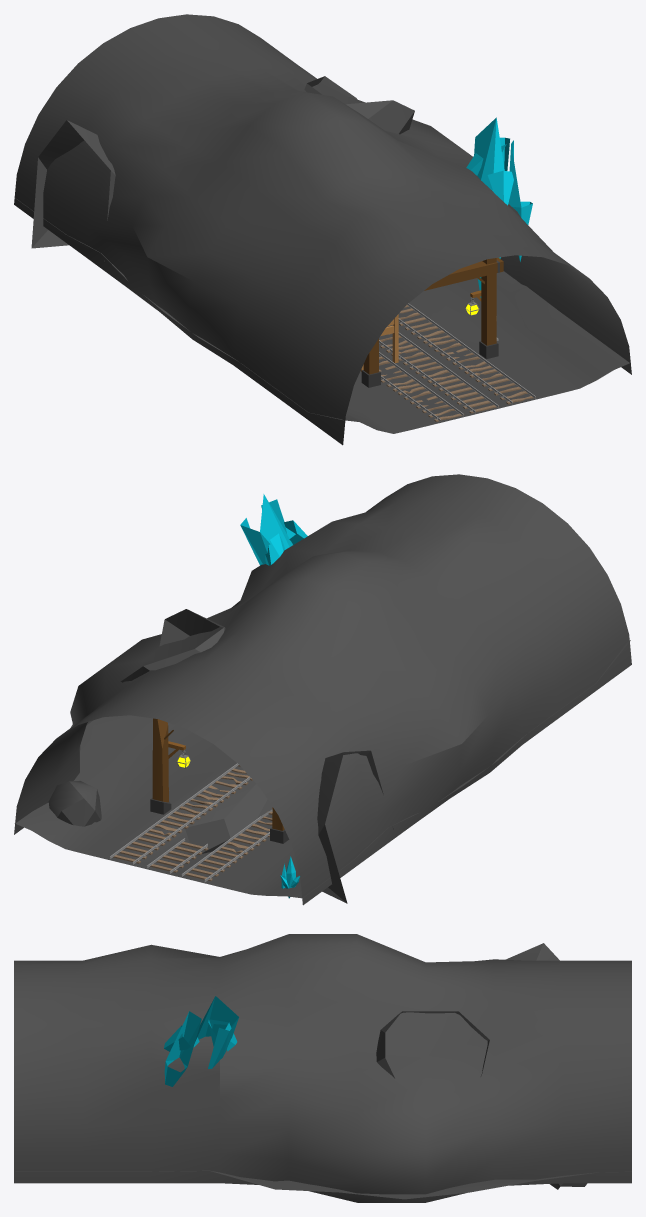
File: Modulo Obstaculo 3.fbx
3 renders of one model, top to bottom at view 1: azimuth 30°, elevation 25°; view 2: azimuth 150°, elevation 25°; view 3: azimuth 270°, elevation 25°, orthographic. The views are drawn at different scales.
Visible parts, largest first — view 1: Plane.014; view 2: Plane.014; view 3: Plane.014.
Part boxes in pixels (<box>): Plane.014: <box>14,14,631,445</box>; Plane.014: <box>14,474,631,905</box>; Plane.014: <box>14,934,631,1202</box>.
Bounding box in the file's own units: 3024 × 1976 × 4761.
